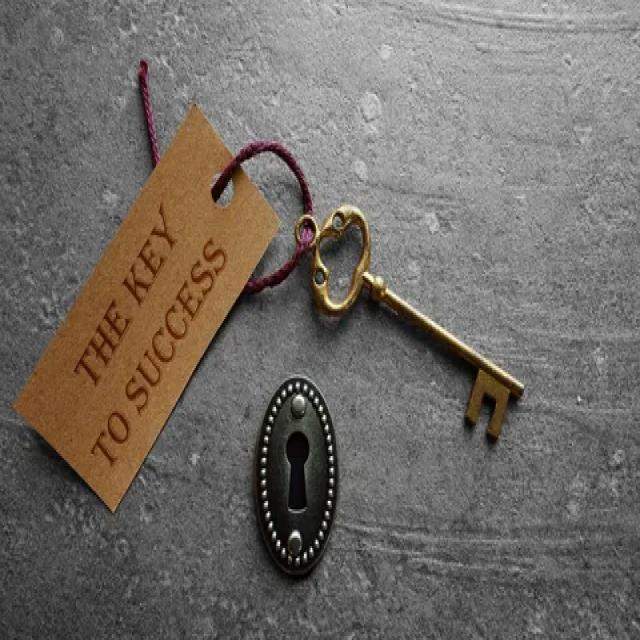key: (302, 188, 536, 452)
